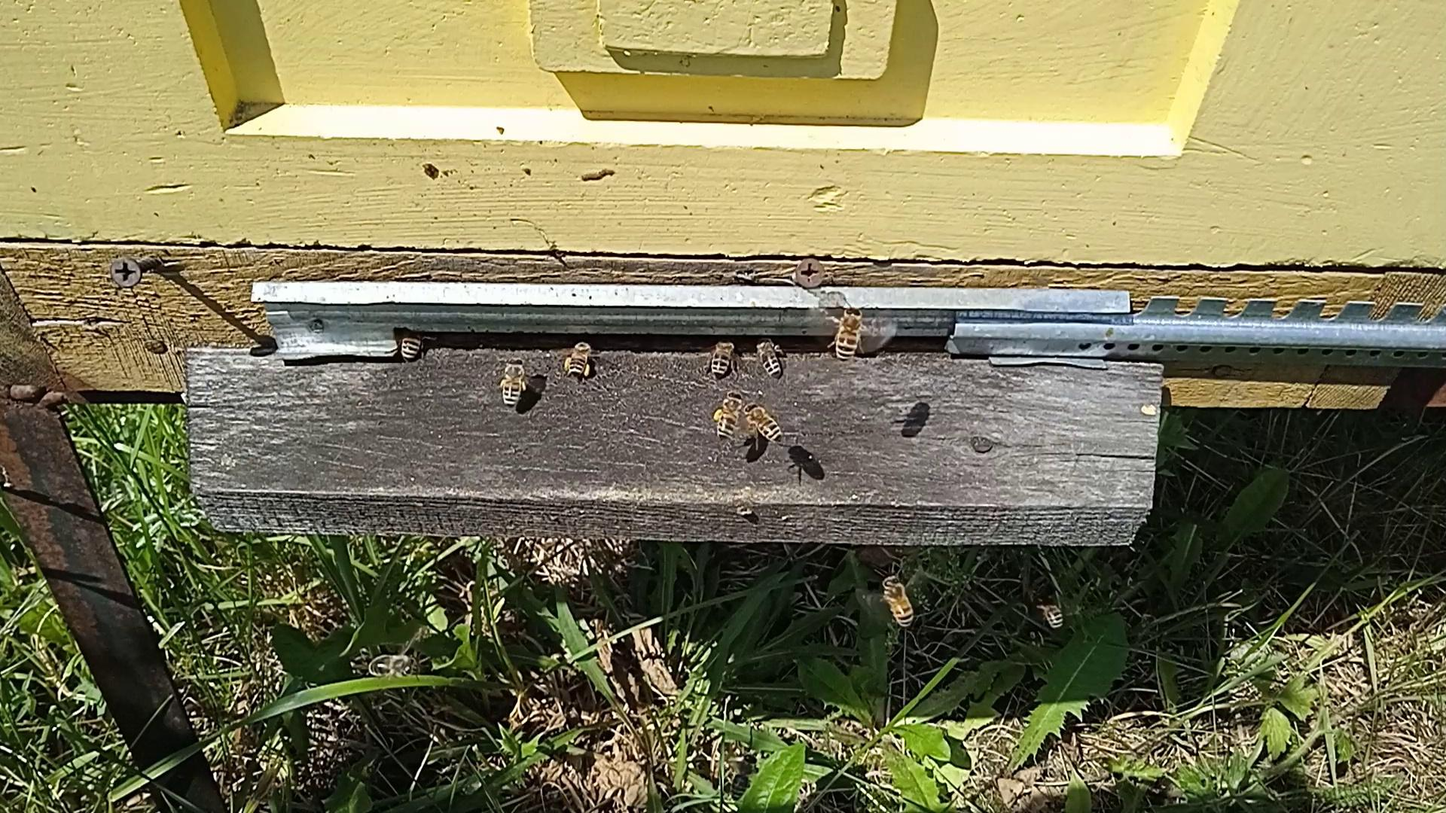worker-bee: (881, 574, 915, 629), (833, 305, 865, 362), (497, 357, 531, 408), (712, 390, 746, 440), (743, 402, 783, 443), (559, 338, 597, 381), (730, 752, 759, 802), (365, 653, 420, 678), (753, 337, 786, 378), (706, 336, 737, 378), (1037, 595, 1064, 630), (398, 330, 427, 361)
